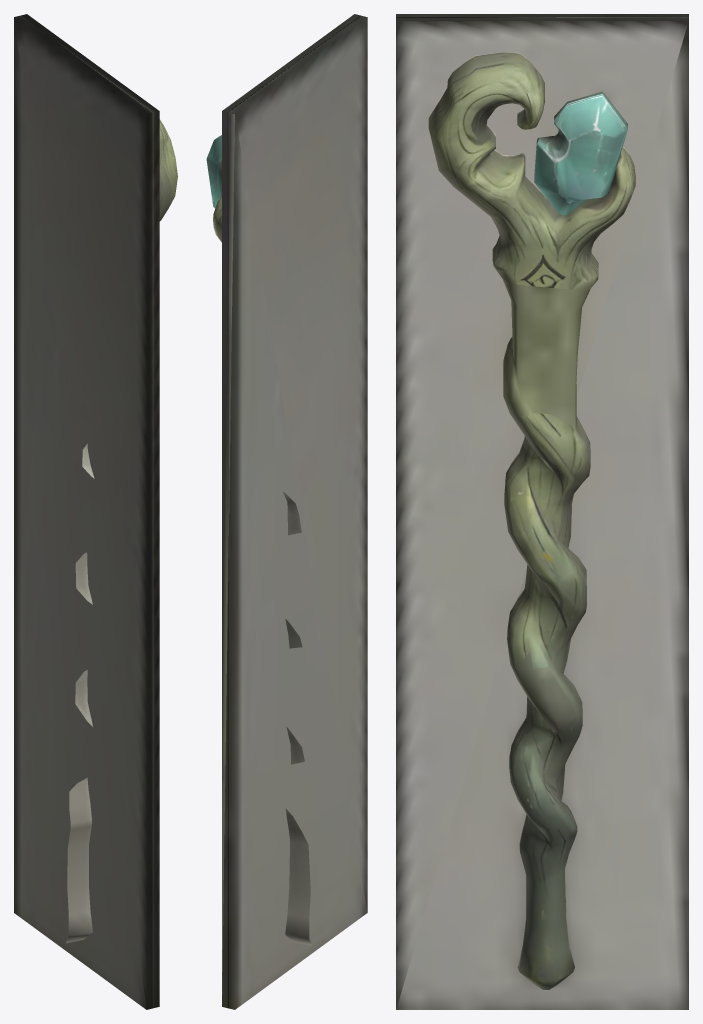
File: staff_epic_hexwood_basin_turquoise.glb
The picture shows the model from 3 angles, left to right: view 1: azimuth 30°, elevation 25°; view 2: azimuth 150°, elevation 25°; view 3: azimuth 270°, elevation 25°; orthographic projection. The views are drawn at different scales.
Visible parts, largest first — view 1: tripo_node_3f63749e-eef3-44fe-845e-d16a1f40230f; view 2: tripo_node_3f63749e-eef3-44fe-845e-d16a1f40230f; view 3: tripo_node_3f63749e-eef3-44fe-845e-d16a1f40230f.
Part boxes in pixels (x1,y1,x2,y2): tripo_node_3f63749e-eef3-44fe-845e-d16a1f40230f: (14,14,177,1009); tripo_node_3f63749e-eef3-44fe-845e-d16a1f40230f: (206,14,367,1009); tripo_node_3f63749e-eef3-44fe-845e-d16a1f40230f: (396,14,688,1009).
Bounding box in the file's own units: 0.2217 × 2.28 × 0.6115.
1 material, 1 textured.
